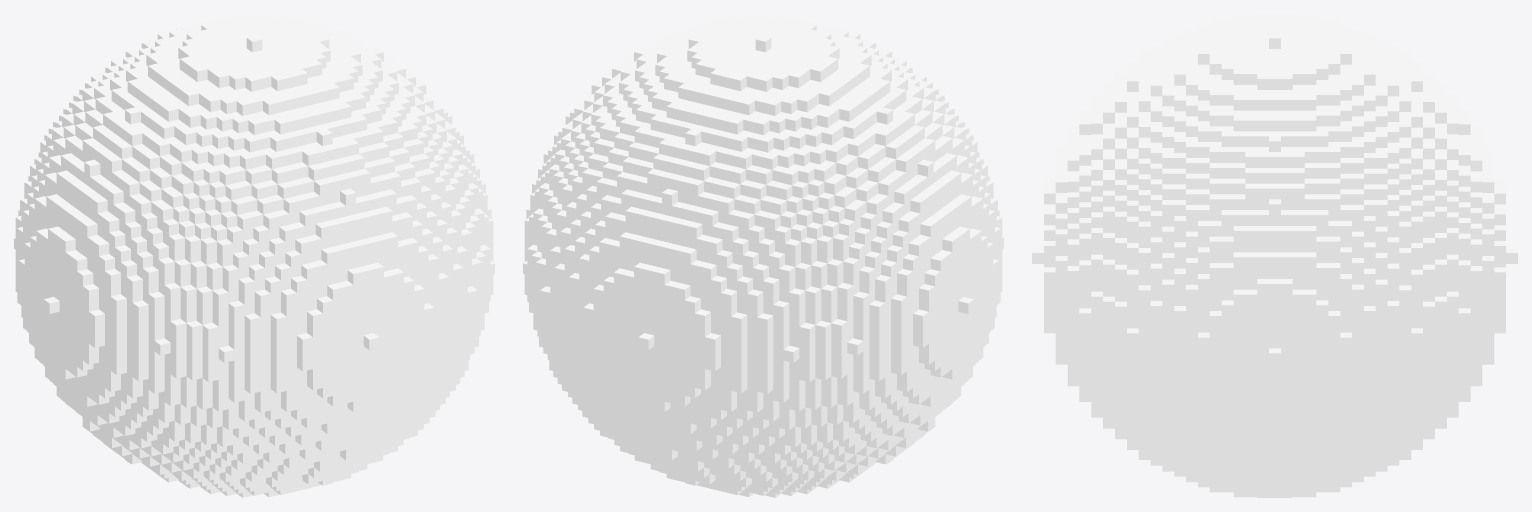
3 renders of one model, left to right at view 1: azimuth 30°, elevation 25°; view 2: azimuth 150°, elevation 25°; view 3: azimuth 270°, elevation 25°, orthographic.
Visible parts, largest first — view 1: Object; view 2: Object; view 3: Object.
Boxes of the visible parts, x1,y1,x2,y2 form: Object: [14, 14, 494, 497]; Object: [523, 14, 1003, 497]; Object: [1032, 14, 1517, 497].
Bounding box in the file's own units: 41 × 41 × 41.
Materials: 1 (1 with a texture image).
